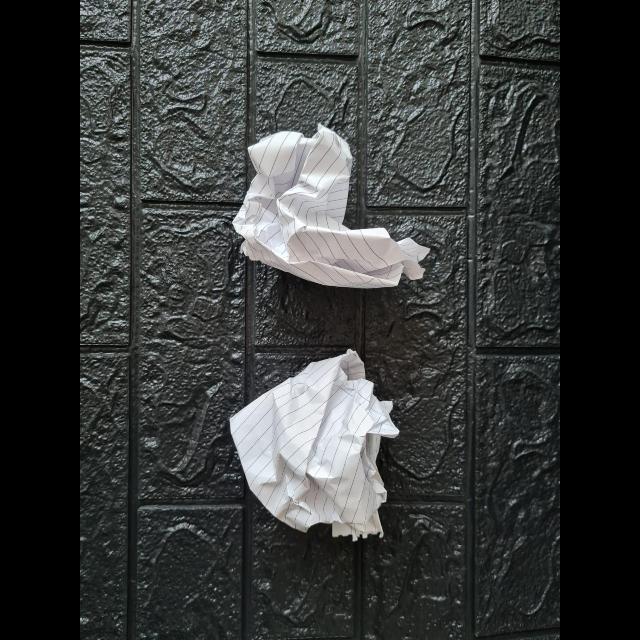scrap_paper: (234, 128, 433, 292), (233, 351, 394, 533)
